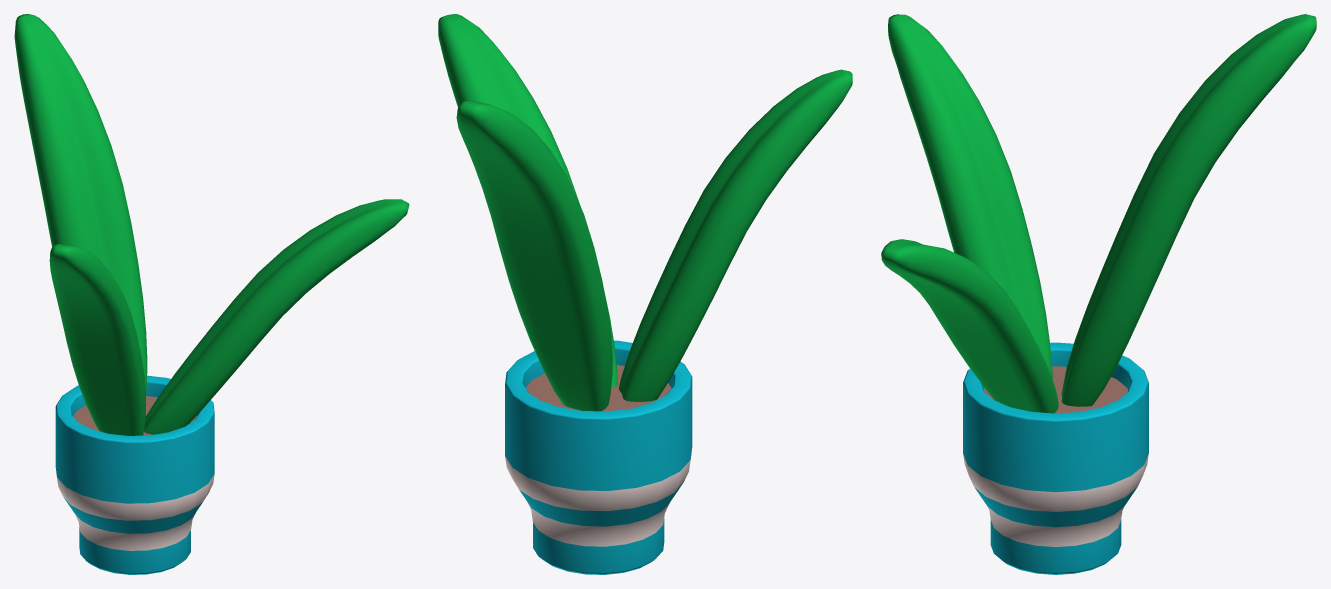
The model's file is City_11_Plant_2.glb.
3 views of the same model, side by side, from view 1: azimuth 30°, elevation 25°; view 2: azimuth 150°, elevation 25°; view 3: azimuth 270°, elevation 25° (orthographic). The views are drawn at different scales.
Visible parts, largest first — view 1: City_11_Plant_2; view 2: City_11_Plant_2; view 3: City_11_Plant_2.
Boxes of the visible parts, <box> form: City_11_Plant_2: <box>14,14,409,574</box>; City_11_Plant_2: <box>438,14,852,574</box>; City_11_Plant_2: <box>881,14,1316,574</box>.
Size of the model in its own units: 1.37 by 1.71 by 1.26.
Materials: 1 (1 with a texture image).
